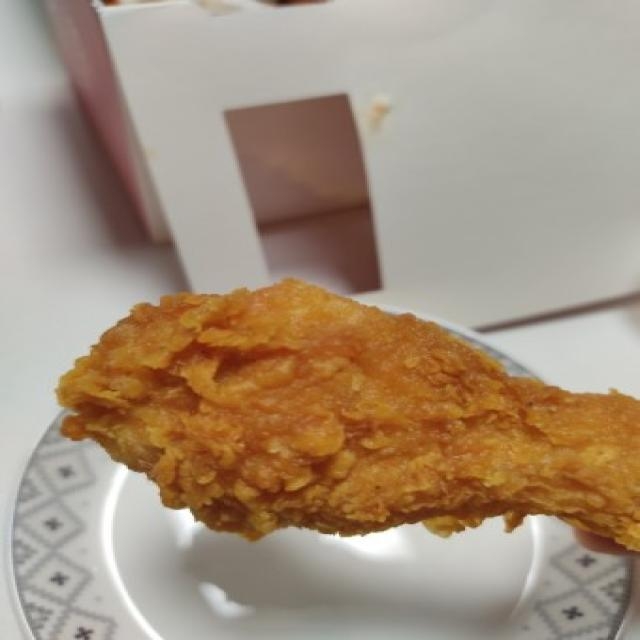Frango: (51, 263, 640, 553)
